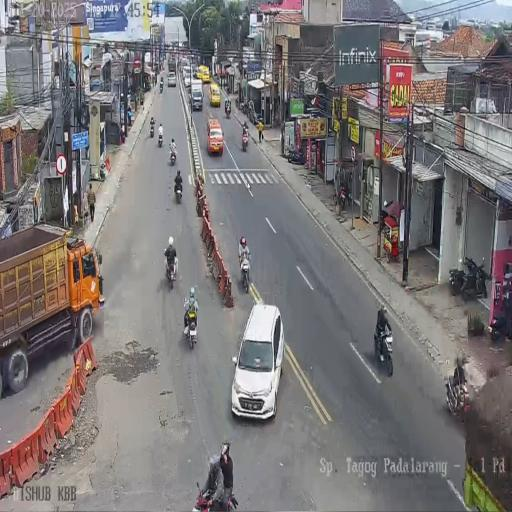car: (230, 301, 282, 420), (206, 118, 224, 156), (209, 83, 221, 107), (197, 65, 210, 83), (182, 65, 192, 86), (167, 71, 176, 87), (192, 68, 198, 78)
motorcycle: (374, 320, 394, 378), (490, 304, 511, 341), (182, 304, 198, 349), (449, 262, 466, 296), (165, 252, 178, 290), (285, 144, 306, 165), (240, 254, 251, 294), (174, 178, 182, 202), (240, 98, 250, 116), (169, 144, 176, 164), (242, 129, 248, 152), (158, 129, 164, 147), (150, 121, 155, 137), (225, 106, 231, 119), (160, 81, 164, 93), (235, 97, 239, 108)
truck: (1, 226, 106, 399), (190, 78, 204, 111), (144, 52, 151, 72)
